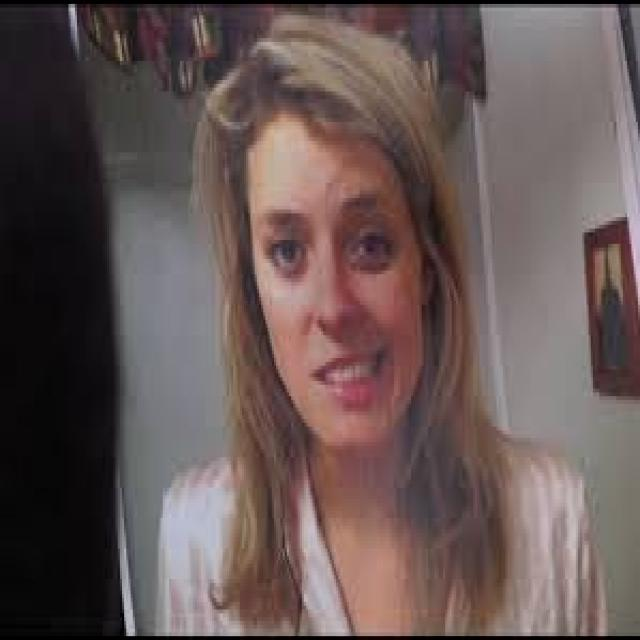stroke_face: (210, 34, 473, 551)
